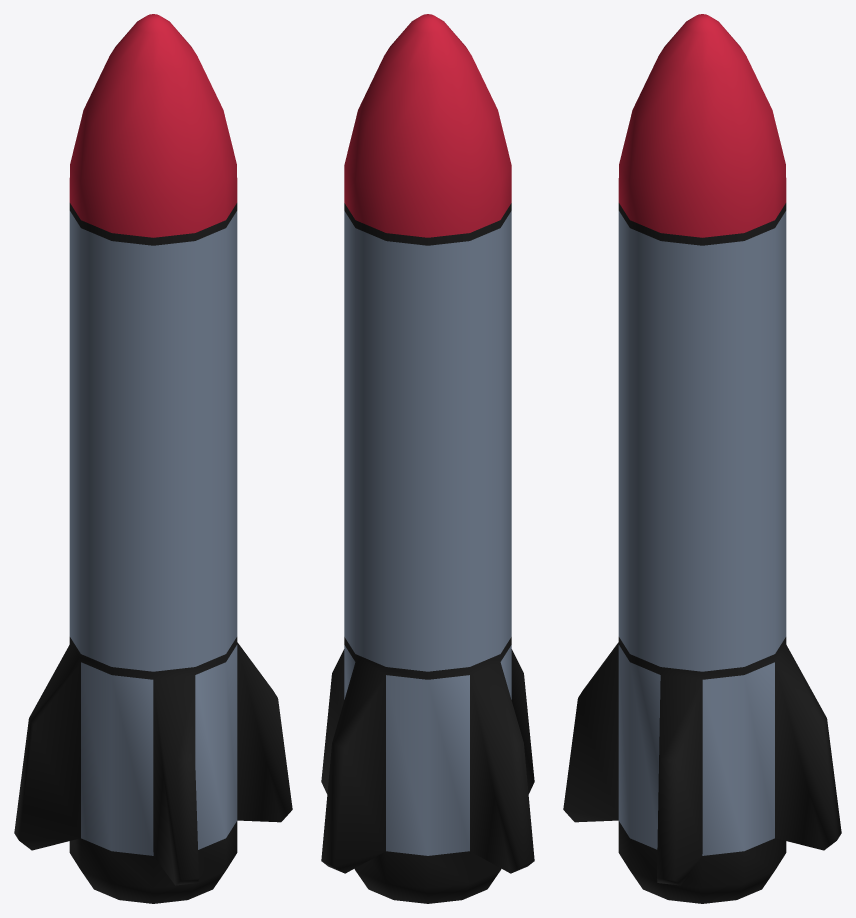
The model's file is Missile.fbx.
3 renders of one model, left to right at view 1: azimuth 30°, elevation 25°; view 2: azimuth 150°, elevation 25°; view 3: azimuth 270°, elevation 25°, orthographic.
Visible parts, largest first — view 1: Cylinder; view 2: Cylinder; view 3: Cylinder.
Boxes of the visible parts, box(x1,y1,x2,y2) form: Cylinder: box(14, 14, 292, 903); Cylinder: box(321, 14, 534, 903); Cylinder: box(563, 14, 841, 903).
Bounding box in the file's own units: 166 × 565 × 166.
